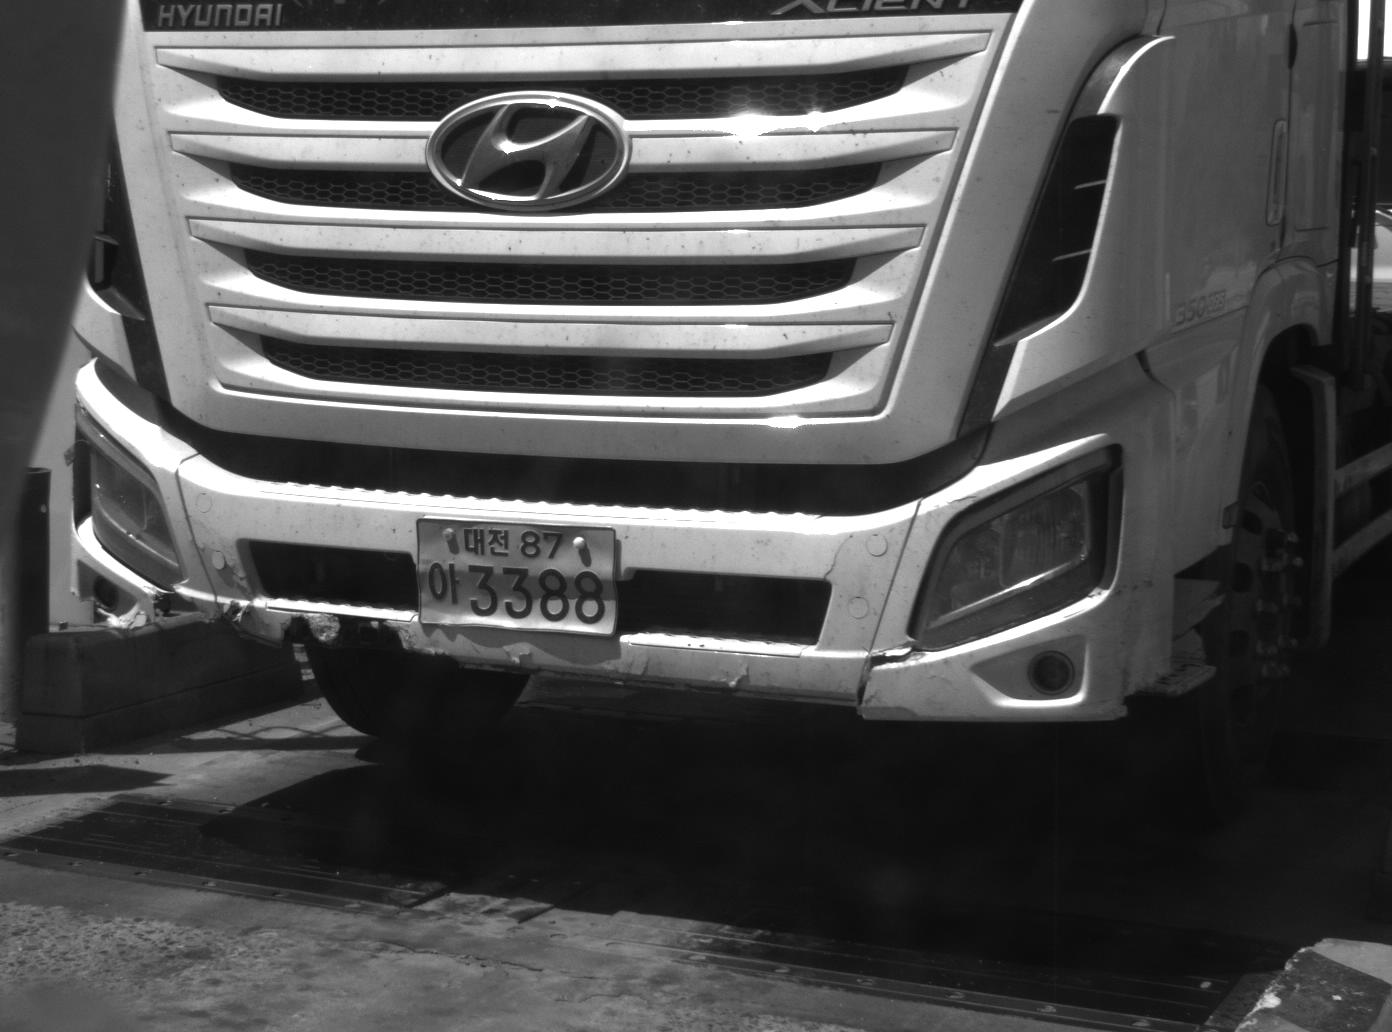car: (61, 1, 1390, 752)
plate: (412, 516, 618, 640)
